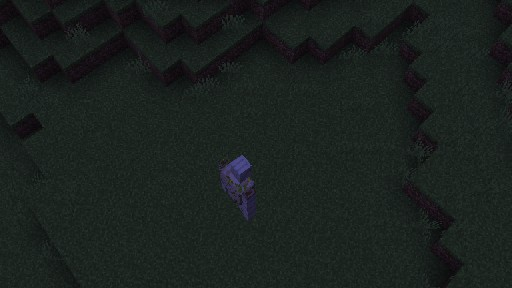iron_golem: (217, 153, 255, 220)
